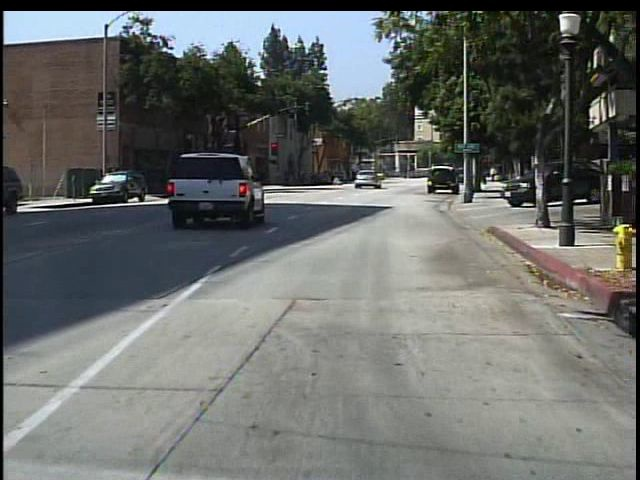person: (330, 167, 347, 188), (489, 166, 500, 185)
